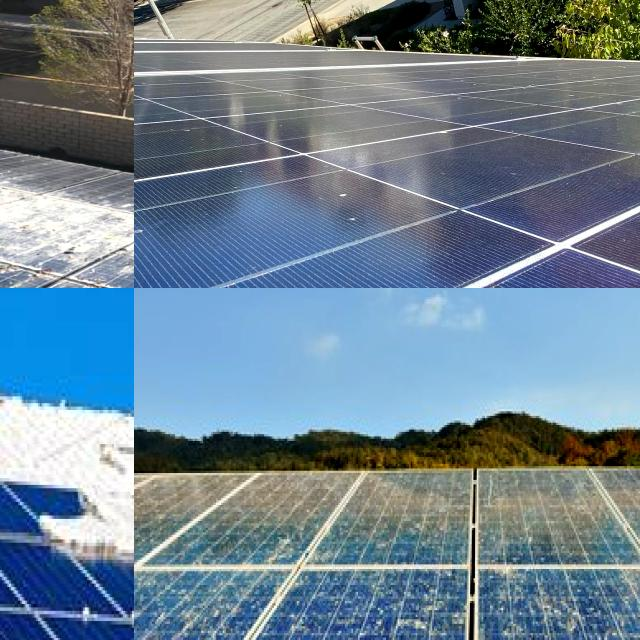bird: (0, 130, 75, 212), (0, 223, 87, 288), (0, 242, 35, 288)
crack: (238, 154, 558, 282), (134, 174, 215, 288)
dust: (312, 483, 461, 607), (145, 480, 259, 619), (505, 490, 626, 608)
panel: (0, 393, 99, 493), (0, 346, 115, 422), (39, 488, 134, 564), (0, 420, 46, 478), (0, 425, 18, 496)
